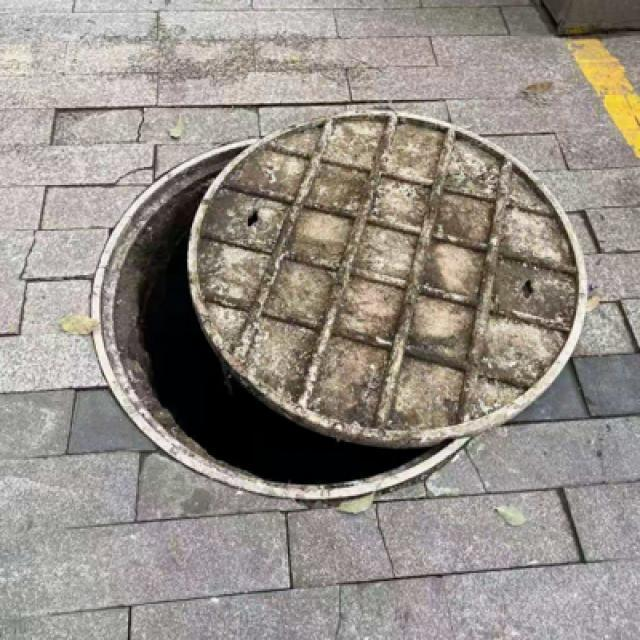manhole: (90, 110, 590, 505)
